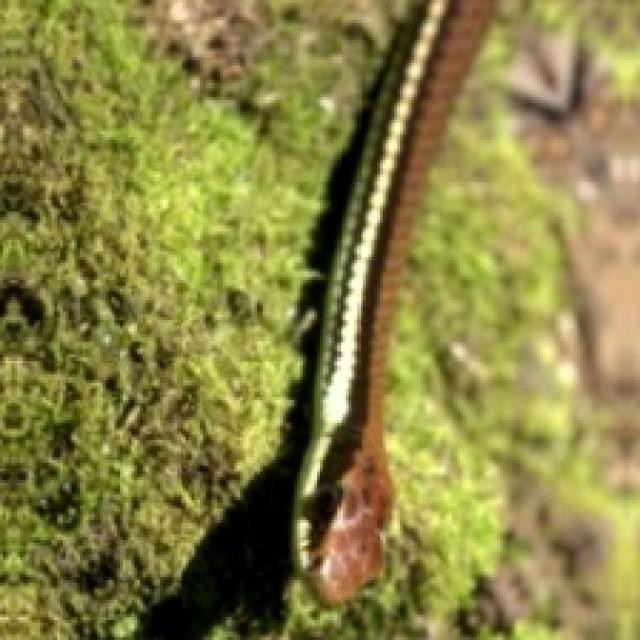philippine bronzeback treesnake: (294, 0, 494, 600)
